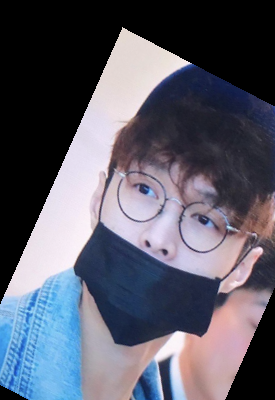mask_weared_incorrect: (71, 66, 275, 350)
